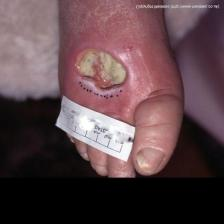Wound: (72, 46, 130, 89)
